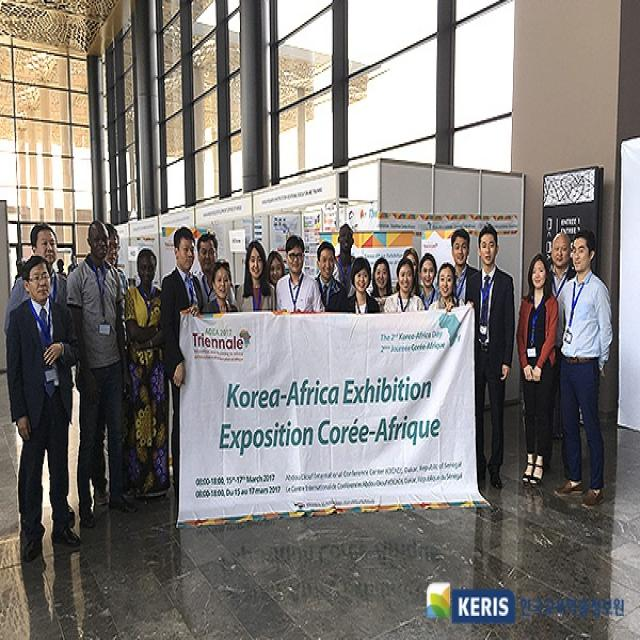body: (5, 251, 84, 562), (4, 219, 78, 530), (64, 218, 131, 530), (552, 226, 614, 512), (464, 222, 515, 493), (122, 246, 172, 501), (160, 222, 205, 494), (518, 248, 560, 485), (274, 234, 327, 315), (190, 230, 236, 306), (306, 238, 350, 314), (234, 238, 277, 314), (449, 224, 482, 309), (378, 256, 426, 314), (338, 256, 381, 314), (544, 230, 578, 301), (330, 222, 360, 300), (201, 258, 240, 314), (426, 260, 465, 314), (414, 250, 444, 312), (104, 222, 129, 293), (368, 254, 395, 314), (401, 245, 426, 298), (56, 256, 70, 346), (8, 258, 31, 312), (264, 248, 286, 286), (67, 253, 79, 277)
